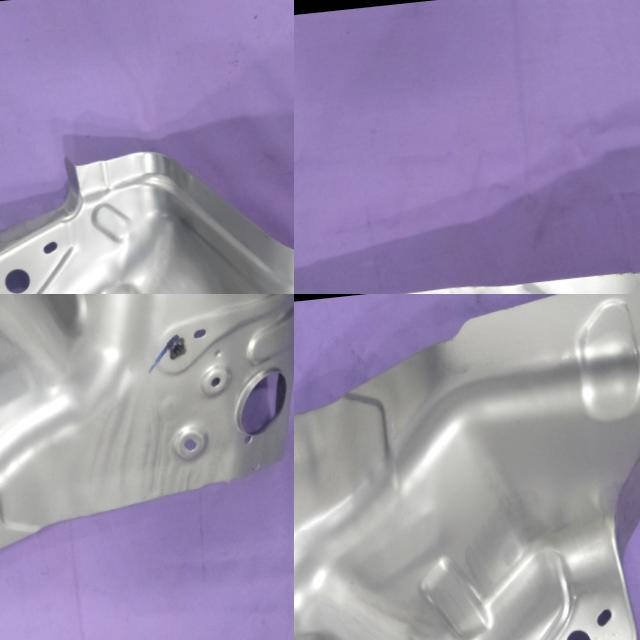Healthy: (0, 294, 294, 610), (0, 109, 294, 294)
